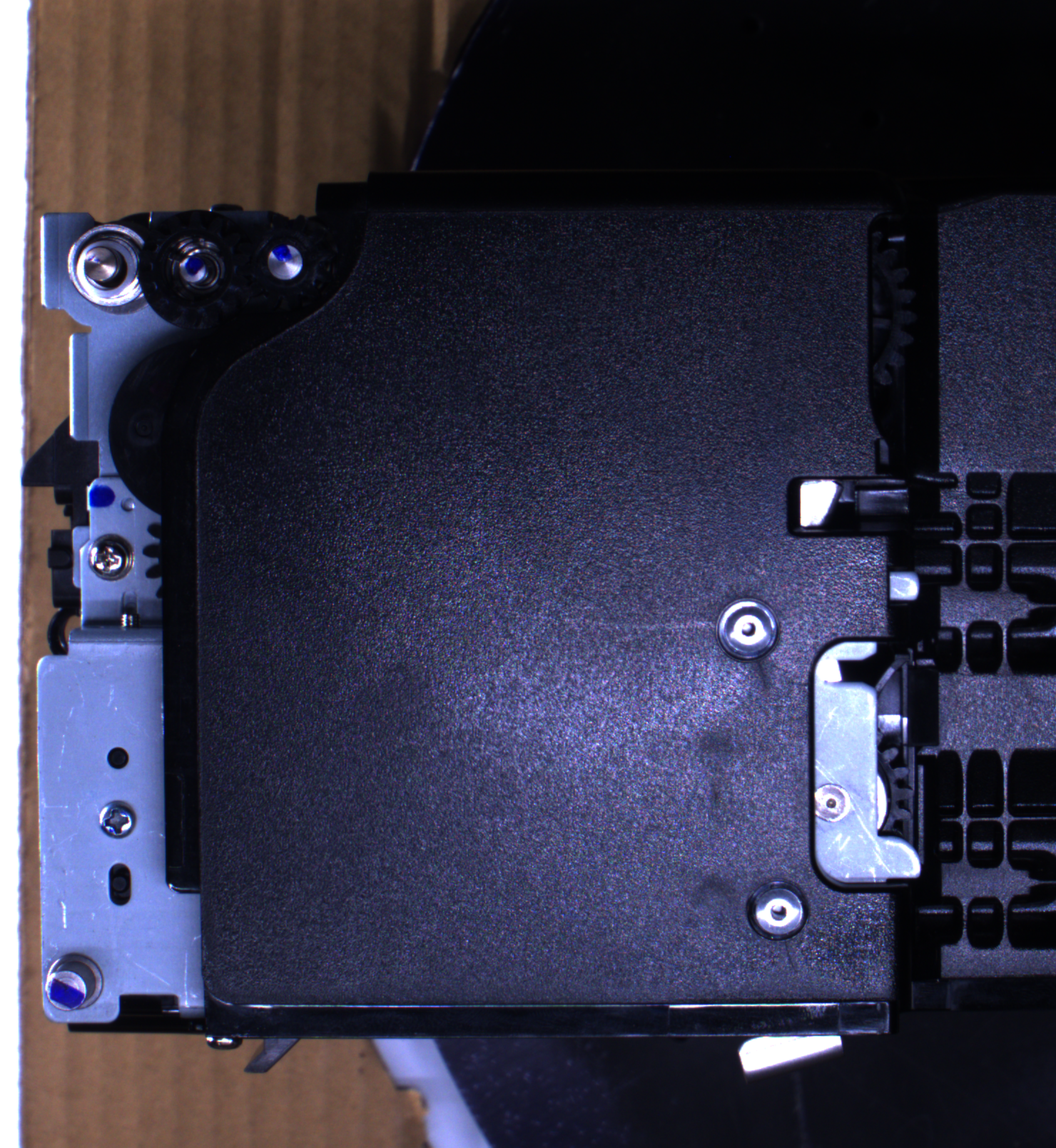centre_pin_presence: (732, 1018, 850, 1079)
centre_plate_presence: (808, 631, 936, 894)
centre_screw_presence: (740, 875, 815, 947), (713, 593, 783, 670)
gear1_absence: (65, 222, 151, 317)
gear2_presence: (140, 227, 250, 329)
gear3_presence: (234, 210, 335, 312)
side_screw_presence: (85, 531, 136, 581), (96, 798, 139, 839)
slanting_pin_presence: (40, 948, 110, 1020)
